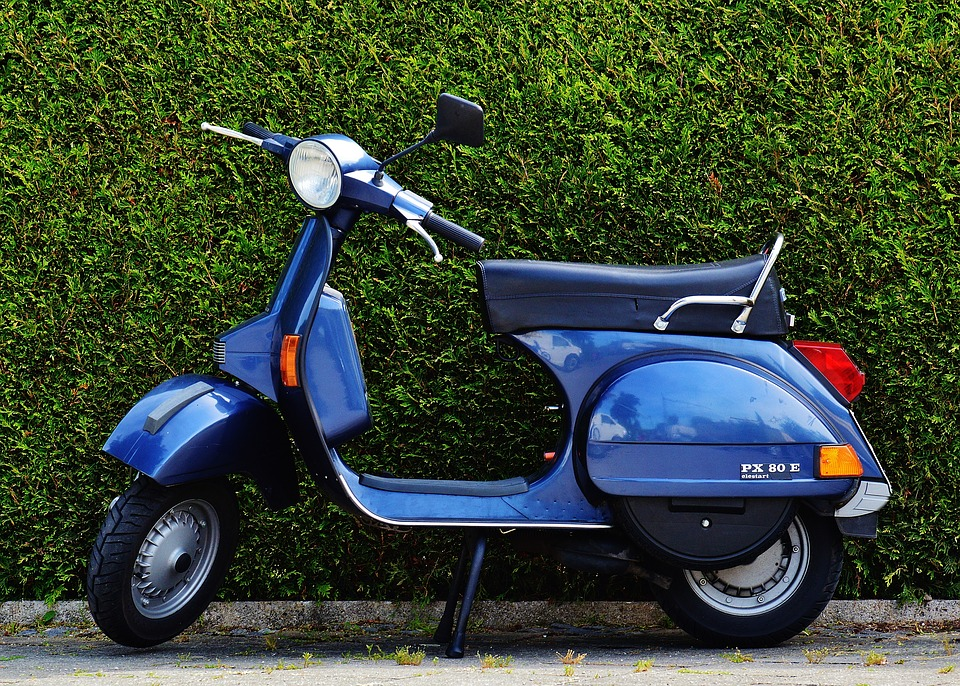motorcycle: (87, 100, 889, 648)
